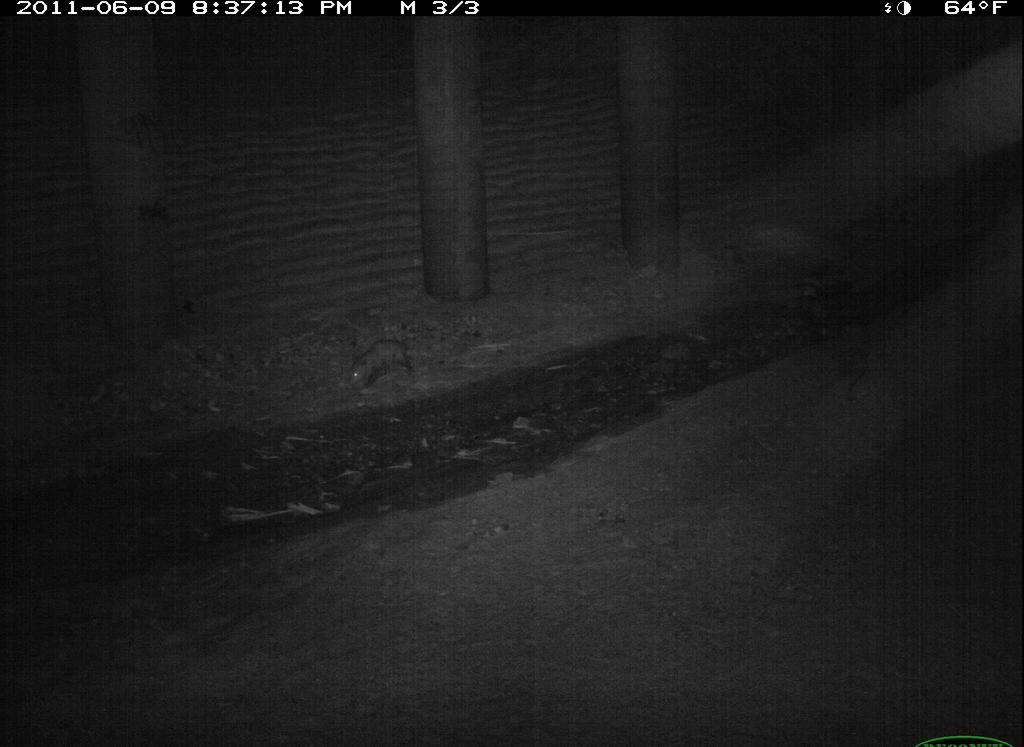opossum: (686, 660, 870, 747)
